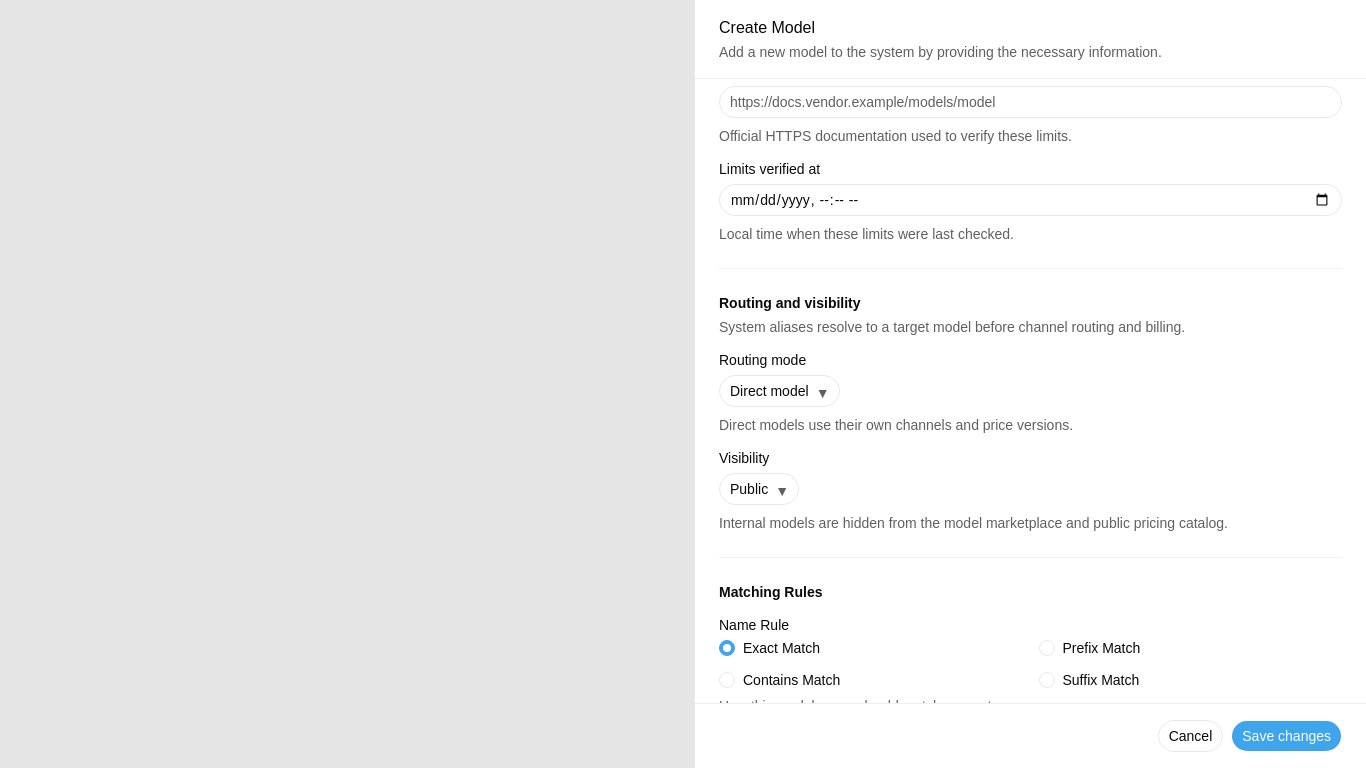
Test: model routing form › shows alias-only target fields and hides duplicate route and price fields
(page scrolled)
Expected: the dropdown named "Visibility" is shown, x1=719 y1=473 x2=799 y2=505
Expected: the field labelled "Routing target" is not shown
Click the dropdown named "Routing mode": {"x": 779, "y": 391} x1=719 y1=375 x2=840 y2=407
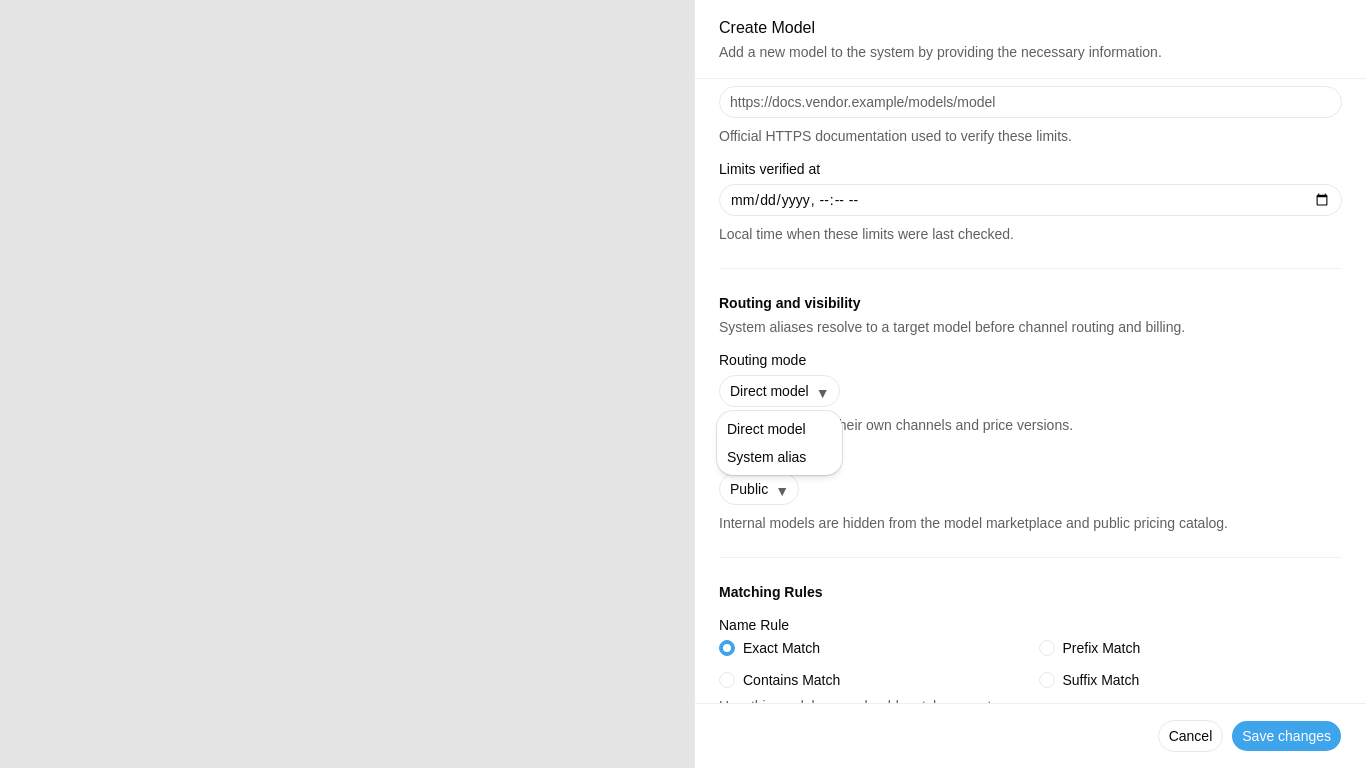
Click the option "System alias": {"x": 767, "y": 457} x1=727 y1=449 x2=806 y2=465
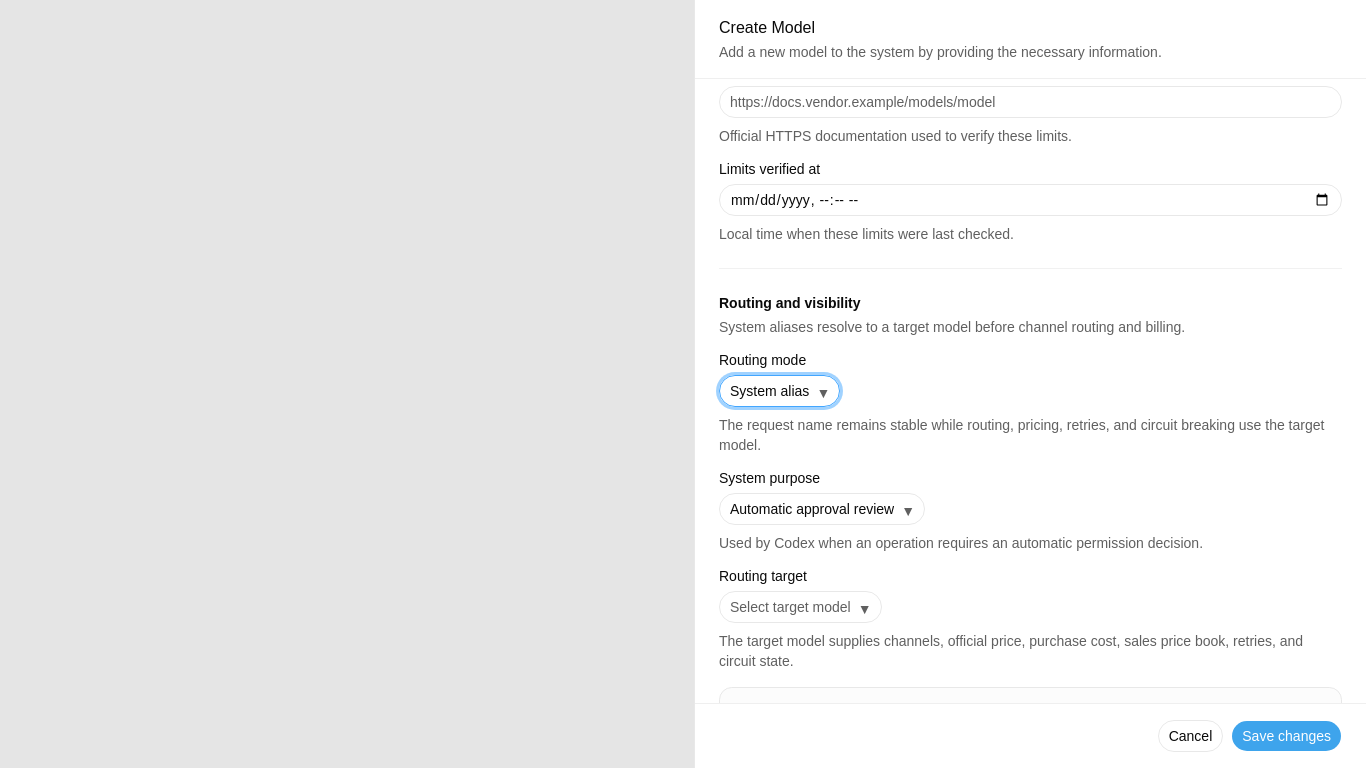
Expected: the dropdown named "Routing target" is shown
Click the dropdown named "Routing target": {"x": 800, "y": 607} x1=719 y1=591 x2=882 y2=623
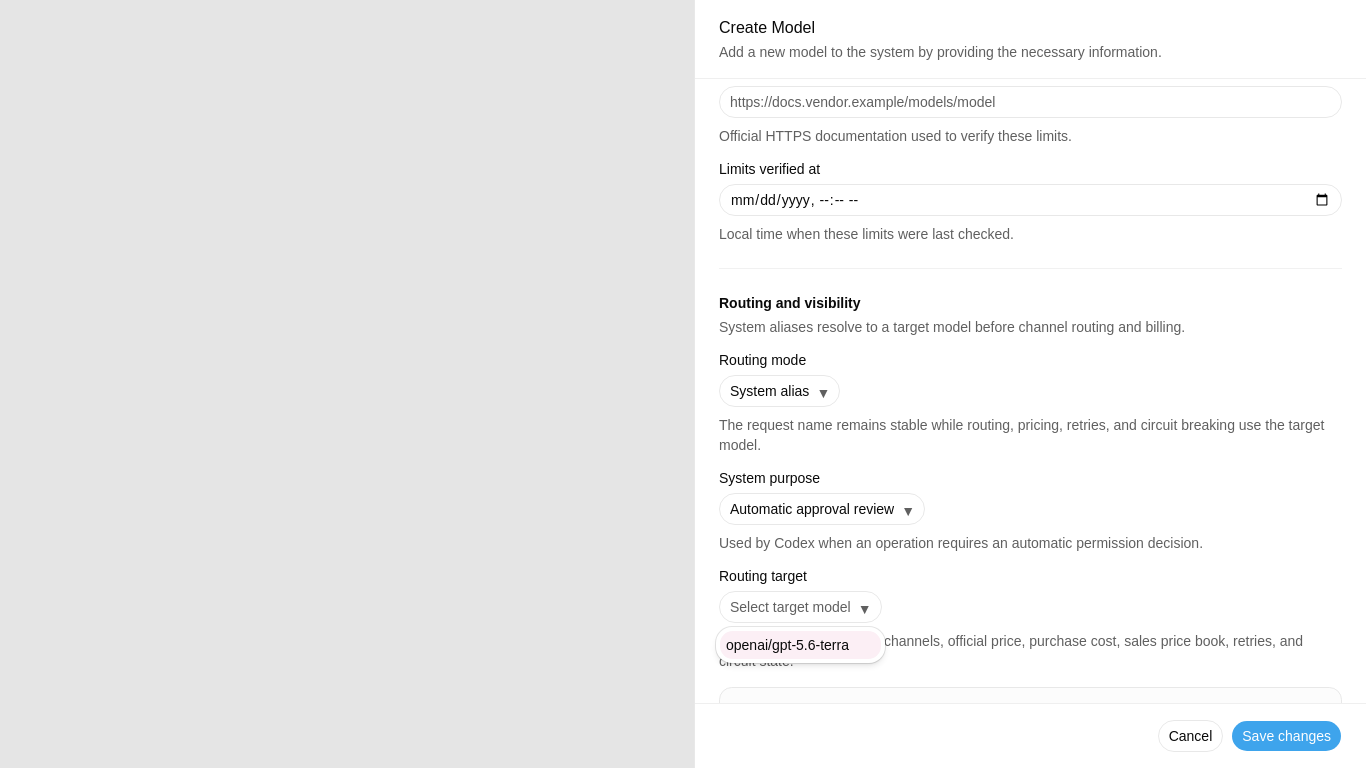
Expected: the option "openai/gpt-5.6-terra" is shown, x1=720 y1=631 x2=881 y2=659
